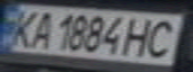1: (48, 10, 75, 51)
4: (100, 13, 130, 55)
8: (84, 12, 109, 53), (66, 11, 90, 52)
A: (21, 8, 57, 51)
C: (139, 17, 190, 59)
H: (118, 15, 163, 57)
K: (3, 7, 45, 48)
